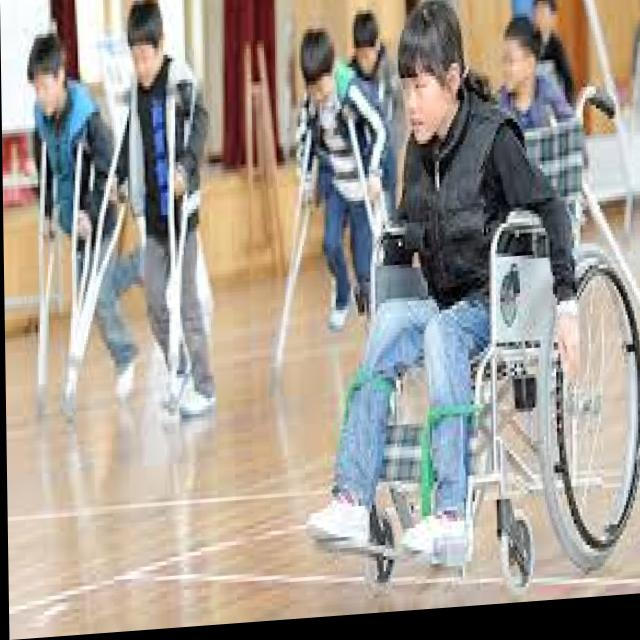wheelchair: (355, 0, 640, 604)
